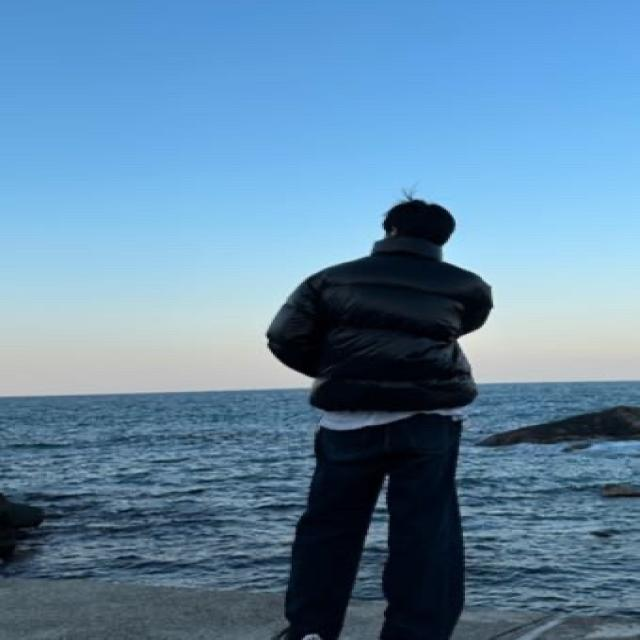denimpants: (281, 413, 463, 634)
padding: (265, 236, 494, 411)
